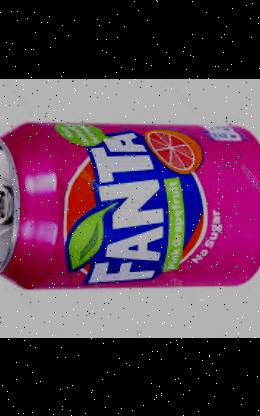Can: (0, 118, 260, 292)
